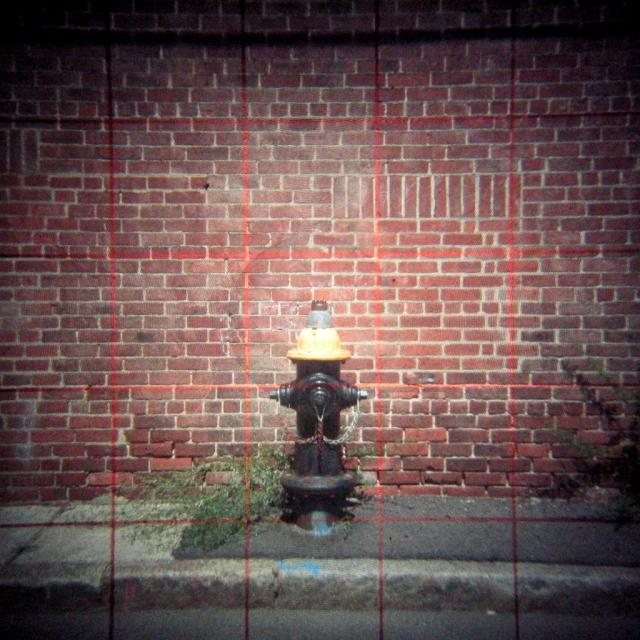fire_hydrant: (269, 303, 367, 528)
